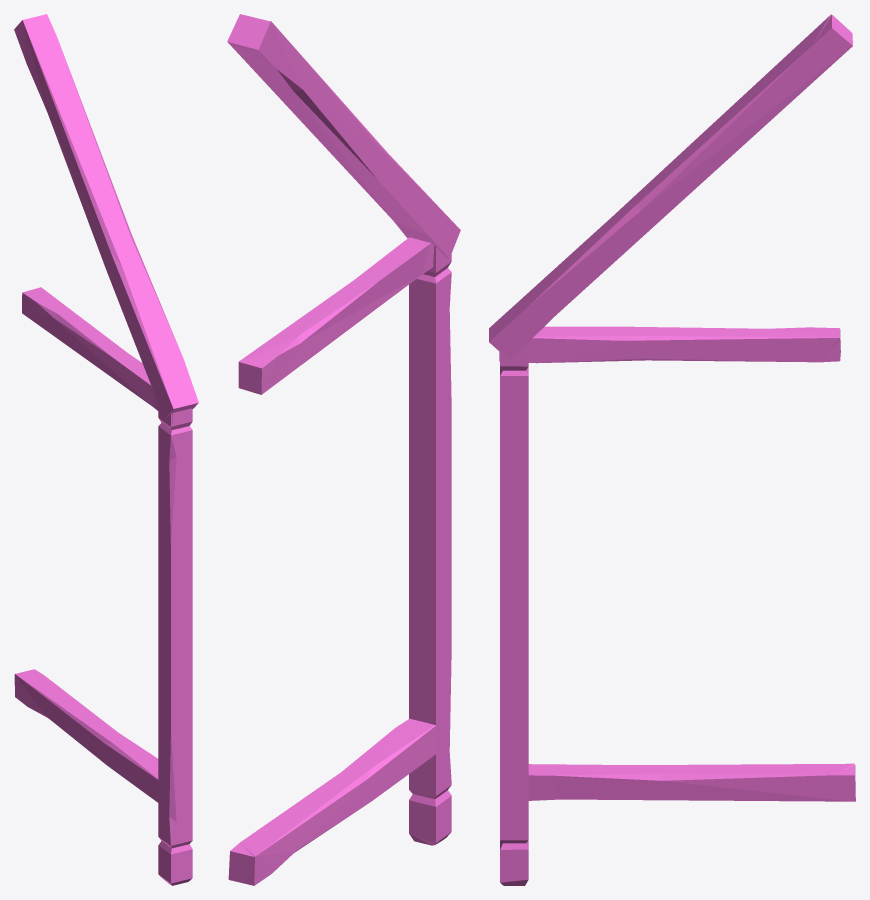
The model's file is SM_Gallery_Roof_Support_Middle_A_Fantasy.fbx.
3 renders of one model, left to right at view 1: azimuth 30°, elevation 25°; view 2: azimuth 150°, elevation 25°; view 3: azimuth 270°, elevation 25°, orthographic. The views are drawn at different scales.
Visible parts, largest first — view 1: SM_Gallery_Roof_Support_Middle_A_Fantasy; view 2: SM_Gallery_Roof_Support_Middle_A_Fantasy; view 3: SM_Gallery_Roof_Support_Middle_A_Fantasy.
Boxes of the visible parts, x1,y1,x2,y2 form: SM_Gallery_Roof_Support_Middle_A_Fantasy: [14, 14, 198, 885]; SM_Gallery_Roof_Support_Middle_A_Fantasy: [227, 14, 460, 885]; SM_Gallery_Roof_Support_Middle_A_Fantasy: [489, 14, 855, 885].
Bounding box in the file's own units: 0.2241 × 6.01 × 2.32.
